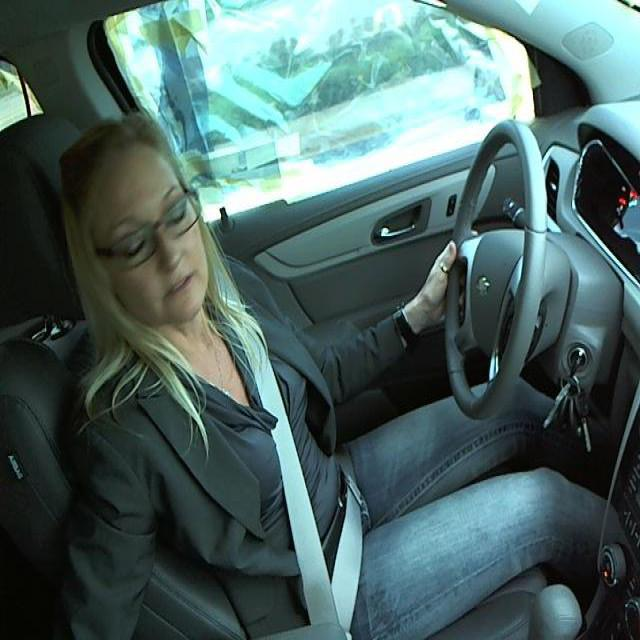seatbelt: (220, 293, 378, 632)
